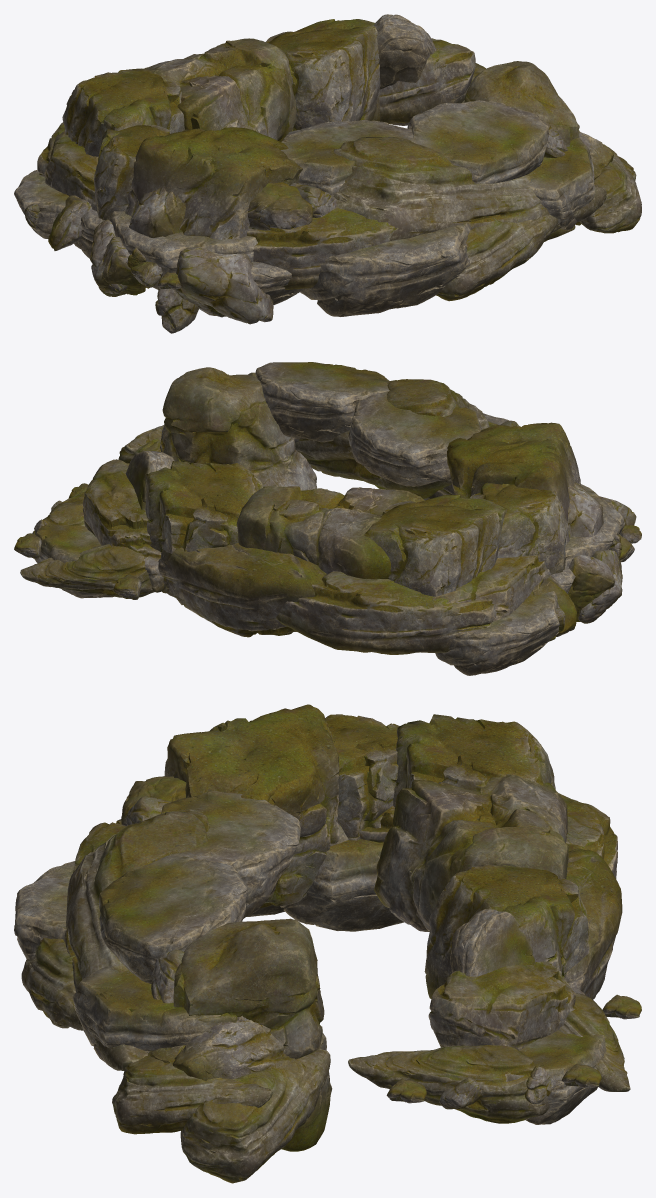
File: SM_Stone_RockBase.fbx
3 renders of one model, top to bottom at view 1: azimuth 30°, elevation 25°; view 2: azimuth 150°, elevation 25°; view 3: azimuth 270°, elevation 25°, orthographic. The views are drawn at different scales.
Parts seen in each view (by area): view 1: Stone_RockBase_006, Stone_RockBase_035, Stone_RockBase_002, Stone_RockBase_041, Stone_RockBase_036, Stone_RockBase_045, Stone_RockBase_034, Stone_RockBase_009, Stone_RockBase_025, Stone_RockBase_005, Stone_RockBase_046, Stone_RockBase_001 (+20 smaller); view 2: Stone_RockBase_013, Stone_RockBase_001, Stone_RockBase_002, Stone_RockBase_010, Stone_RockBase_034, Stone_RockBase_036, Stone_RockBase_035, Stone_RockBase_046, Stone_RockBase_045, Stone_RockBase_038, Stone_RockBase_006, Stone_RockBase_033 (+14 smaller); view 3: Stone_RockBase_002, Stone_RockBase_035, Stone_RockBase_001, Stone_RockBase_045, Stone_RockBase_036, Stone_RockBase_004, Stone_RockBase_012, Stone_RockBase_006, Stone_RockBase_034, Stone_RockBase_007, Stone_RockBase_046, Stone_RockBase_044 (+20 smaller).
Part boxes in pixels (x1,y1,x2,y2): Stone_RockBase_006: (333,137,606,240); Stone_RockBase_035: (125,127,302,239); Stone_RockBase_002: (144,38,296,141); Stone_RockBase_041: (300,223,470,316); Stone_RockBase_036: (266,19,380,131); Stone_RockBase_045: (407,100,548,183); Stone_RockBase_034: (62,68,184,156); Stone_RockBase_009: (247,207,398,289); Stone_RockBase_025: (172,246,273,324); Stone_RockBase_005: (436,215,558,301); Stone_RockBase_046: (281,120,414,196); Stone_RockBase_001: (464,61,579,241); Stone_RockBase_013: (276,571,496,654); Stone_RockBase_001: (162,367,317,490); Stone_RockBase_002: (236,485,424,579); Stone_RockBase_010: (158,543,326,637); Stone_RockBase_034: (364,495,506,596); Stone_RockBase_036: (145,461,264,593); Stone_RockBase_035: (447,422,581,545); Stone_RockBase_046: (348,391,481,486); Stone_RockBase_045: (255,362,389,442); Stone_RockBase_038: (435,591,559,675); Stone_RockBase_006: (295,379,489,498); Stone_RockBase_033: (470,483,568,574); Stone_RockBase_002: (374,774,568,931); Stone_RockBase_035: (164,704,339,908); Stone_RockBase_001: (173,918,332,1151); Stone_RockBase_045: (98,855,247,983); Stone_RockBase_036: (424,864,589,998); Stone_RockBase_004: (180,1049,330,1183); Stone_RockBase_012: (428,961,584,1050); Stone_RockBase_006: (64,809,209,1070); Stone_RockBase_034: (393,714,555,806); Stone_RockBase_007: (348,1045,549,1123); Stone_RockBase_046: (161,791,300,918); Stone_RockBase_044: (73,966,248,1062).
Bounding box in the file's own units: 2155 × 659 × 1763.
